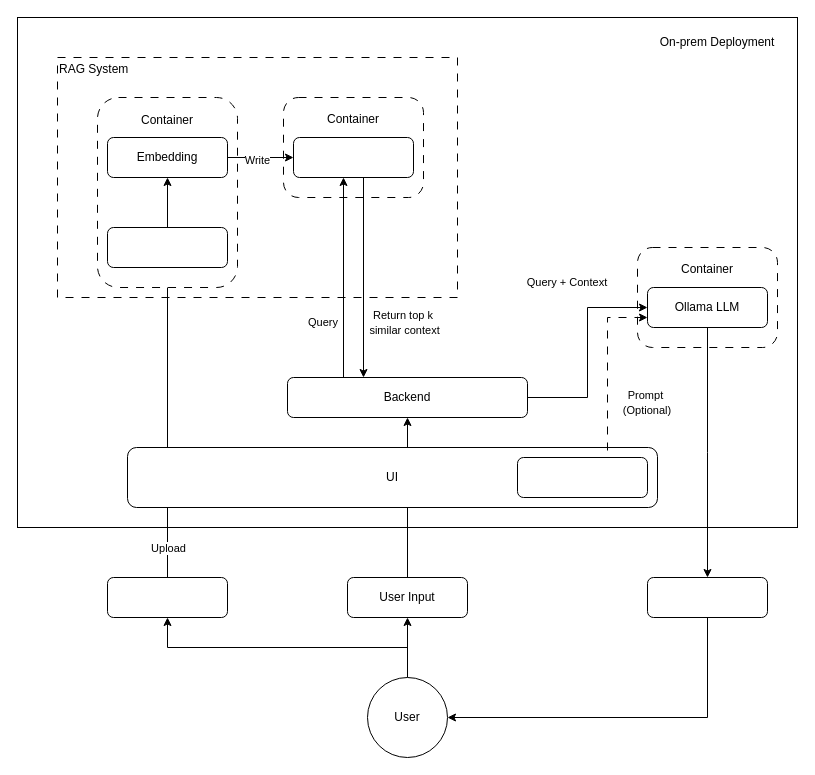
This 815x775 diagram has some shape labels left out. Each missing label, with the centre of its shape:
pdf, txt, xlsx...: pixel 167 597
Prompt Management: pixel 582 477
Response: pixel 707 597
Unstructured Documentation Parser: pixel 167 247
Vector Store (Chroma DB): pixel 353 157
